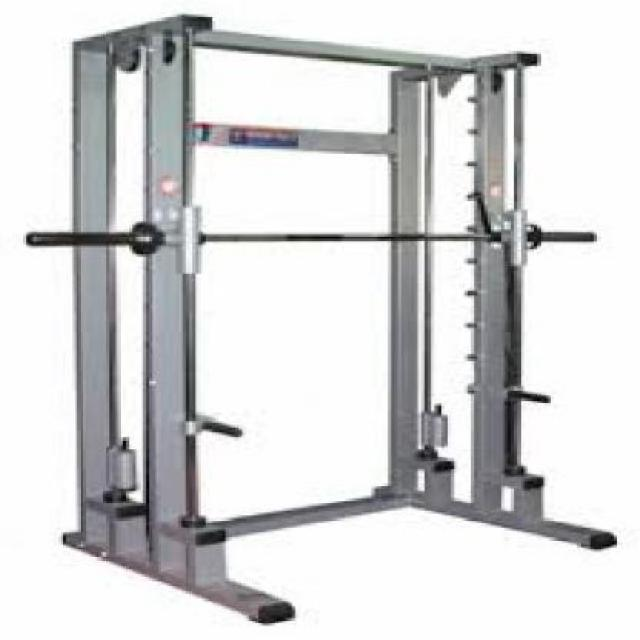smith machine: (24, 10, 618, 628)
